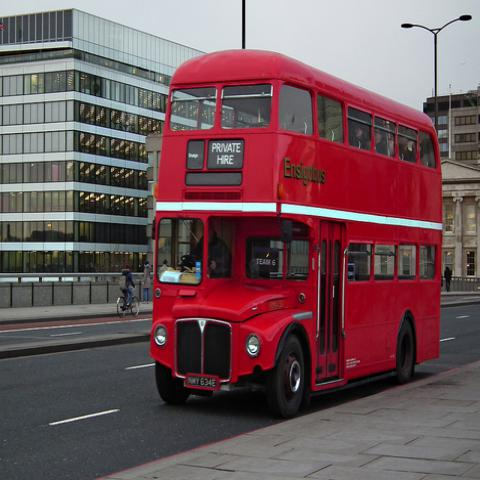bus: (150, 47, 442, 419)
